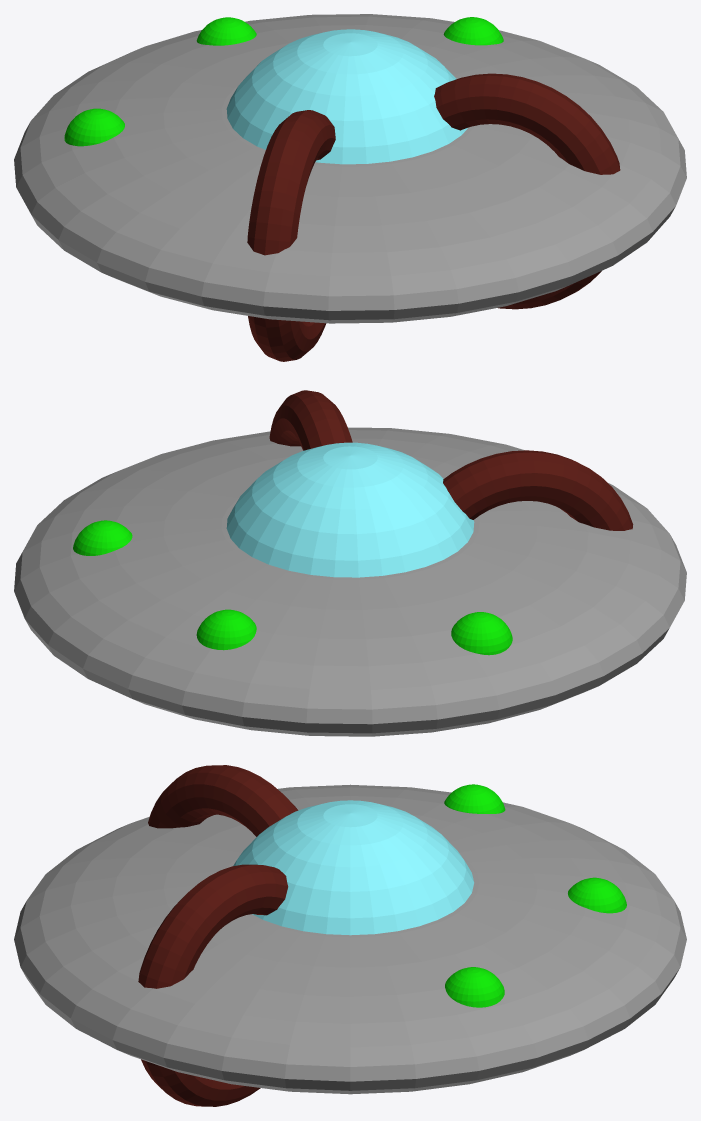
Rendered from ufo.glb.
3 renders of one model, top to bottom at view 1: azimuth 30°, elevation 25°; view 2: azimuth 150°, elevation 25°; view 3: azimuth 270°, elevation 25°, orthographic.
Parts seen in each view (by area): view 1: Sphere, Sphere.001, Torus.002, Torus.001, Sphere.003, Sphere.004, Sphere.002; view 2: Sphere, Sphere.001, Torus.001, Torus.002, Sphere.003, Sphere.002, Sphere.004; view 3: Sphere, Sphere.001, Torus.002, Torus.001, Sphere.004, Sphere.002, Sphere.003.
Boxes of the visible parts, x1=… form: Sphere: x1=14, y1=14, x2=686, y2=323; Sphere.001: x1=226, y1=29, x2=467, y2=164; Torus.002: x1=434, y1=73, x2=620, y2=309; Torus.001: x1=247, y1=110, x2=335, y2=361; Sphere.003: x1=64, y1=108, x2=124, y2=146; Sphere.004: x1=443, y1=17, x2=503, y2=45; Sphere.002: x1=196, y1=17, x2=256, y2=45; Sphere: x1=14, y1=427, x2=686, y2=736; Sphere.001: x1=226, y1=442, x2=474, y2=577; Torus.001: x1=443, y1=450, x2=633, y2=530; Torus.002: x1=269, y1=390, x2=352, y2=450; Sphere.003: x1=451, y1=612, x2=512, y2=655; Sphere.002: x1=196, y1=609, x2=256, y2=650; Sphere.004: x1=73, y1=520, x2=132, y2=555; Sphere: x1=14, y1=784, x2=686, y2=1094; Sphere.001: x1=233, y1=800, x2=474, y2=935; Torus.002: x1=138, y1=864, x2=288, y2=1106; Torus.001: x1=148, y1=765, x2=298, y2=836; Sphere.004: x1=445, y1=967, x2=504, y2=1007; Sphere.002: x1=568, y1=877, x2=626, y2=913; Sphere.003: x1=444, y1=784, x2=505, y2=813.
Bounding box in the file's own units: 2 × 0.8278 × 2.
